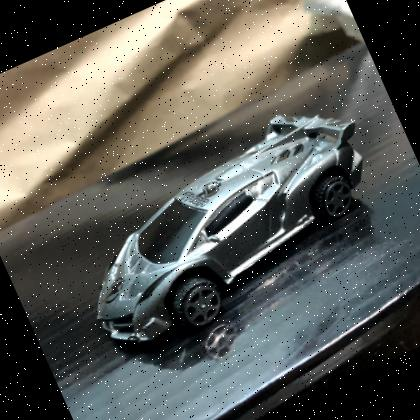Car: (97, 116, 364, 345)
